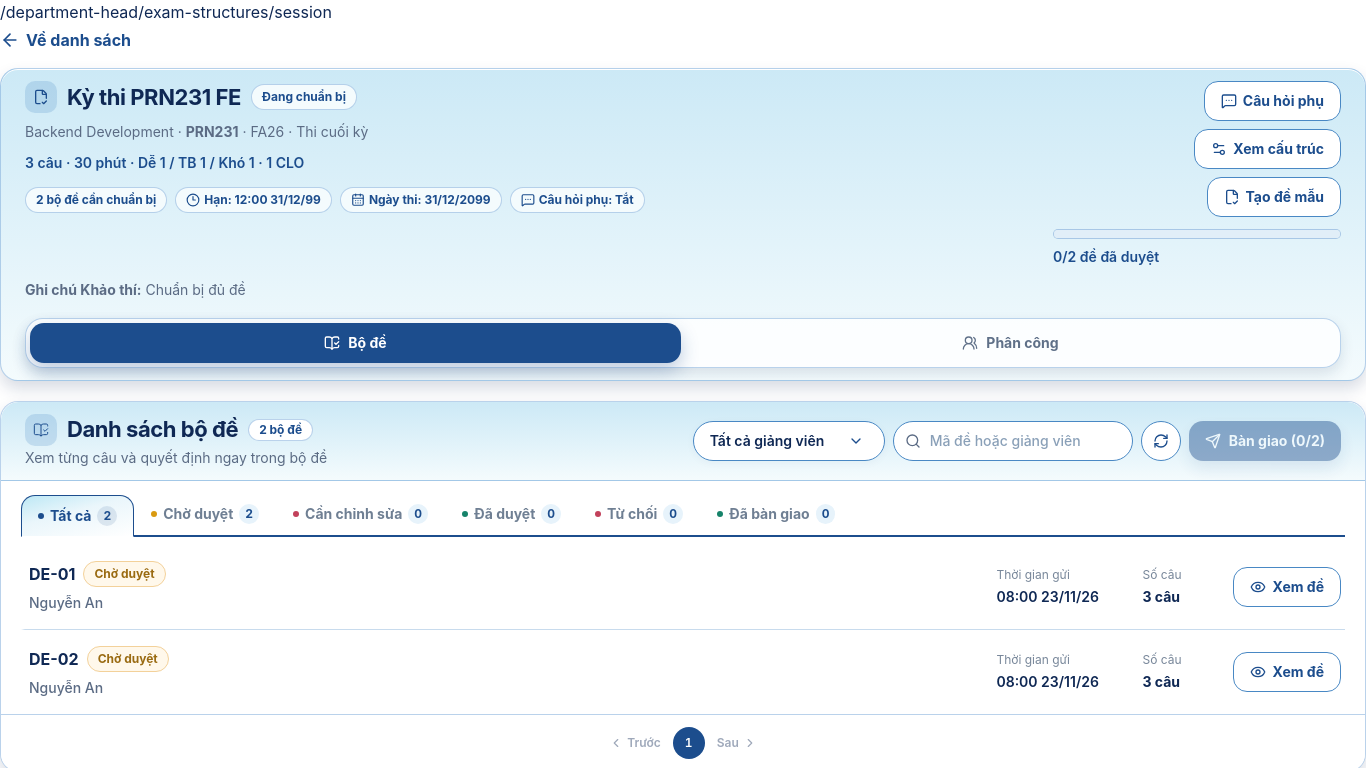
Chuẩn bị đề thi trưởng bộ môn › requires a successful duplicate check before approving and allows retry
Click the button with aria-label "Xem bộ đề DE-01".
click(52, 574)  # box x1=21 y1=545 x2=1345 y2=630
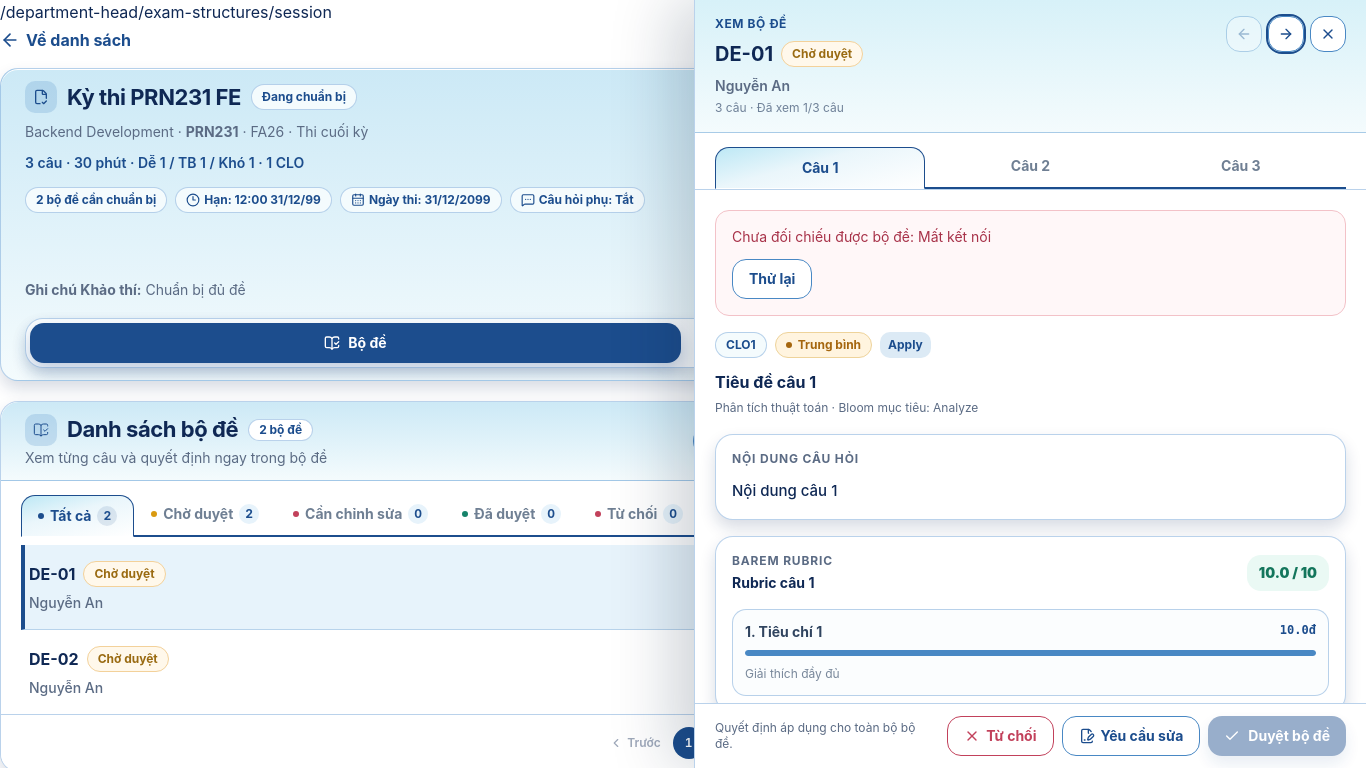
expect the message shows "Chưa đối chiếu được bộ đề": met, box x1=732 y1=228 x2=991 y2=245
expect the button "Duyệt bộ đề" is disabled: met, box x1=1208 y1=716 x2=1346 y2=756
Click the button "Thử lại".
click(772, 279)  # box x1=732 y1=259 x2=812 y2=299
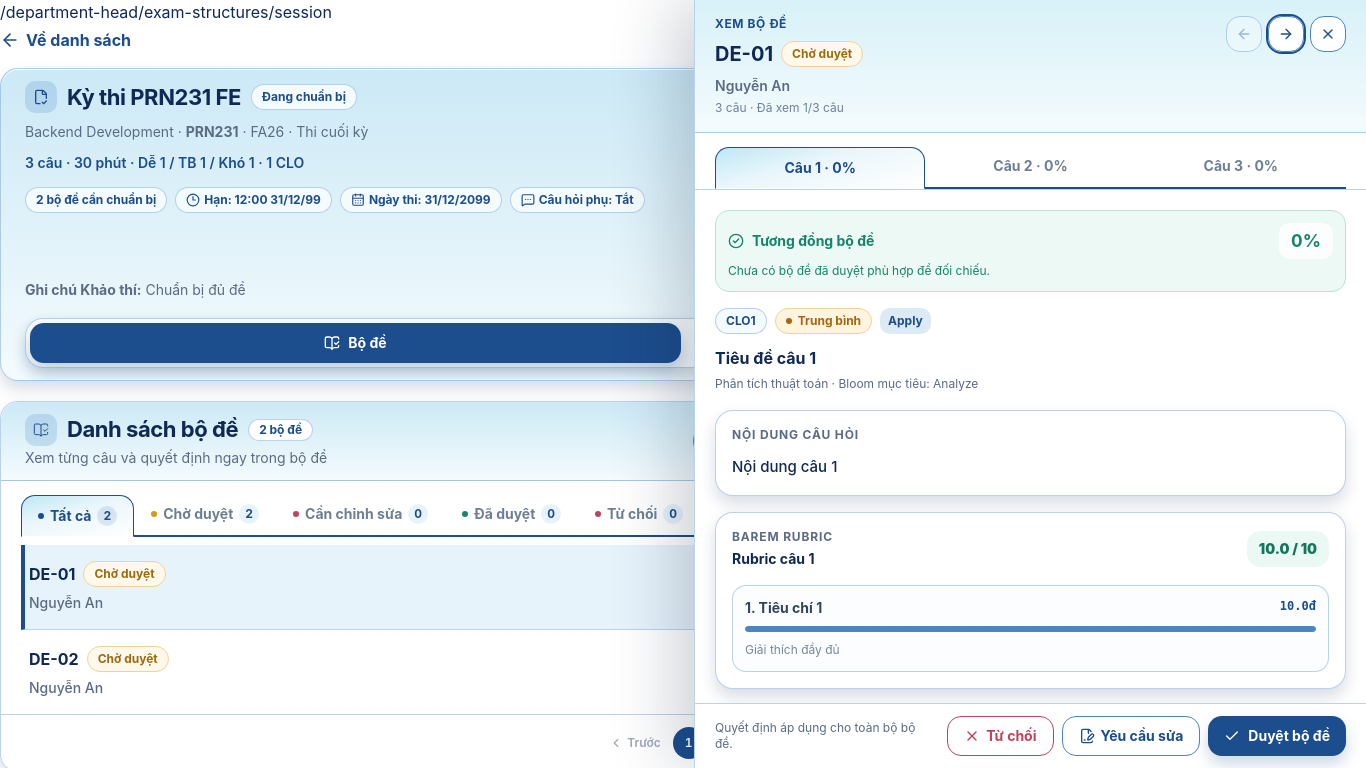
expect the button "Duyệt bộ đề" is enabled: met, box x1=1208 y1=716 x2=1346 y2=756
